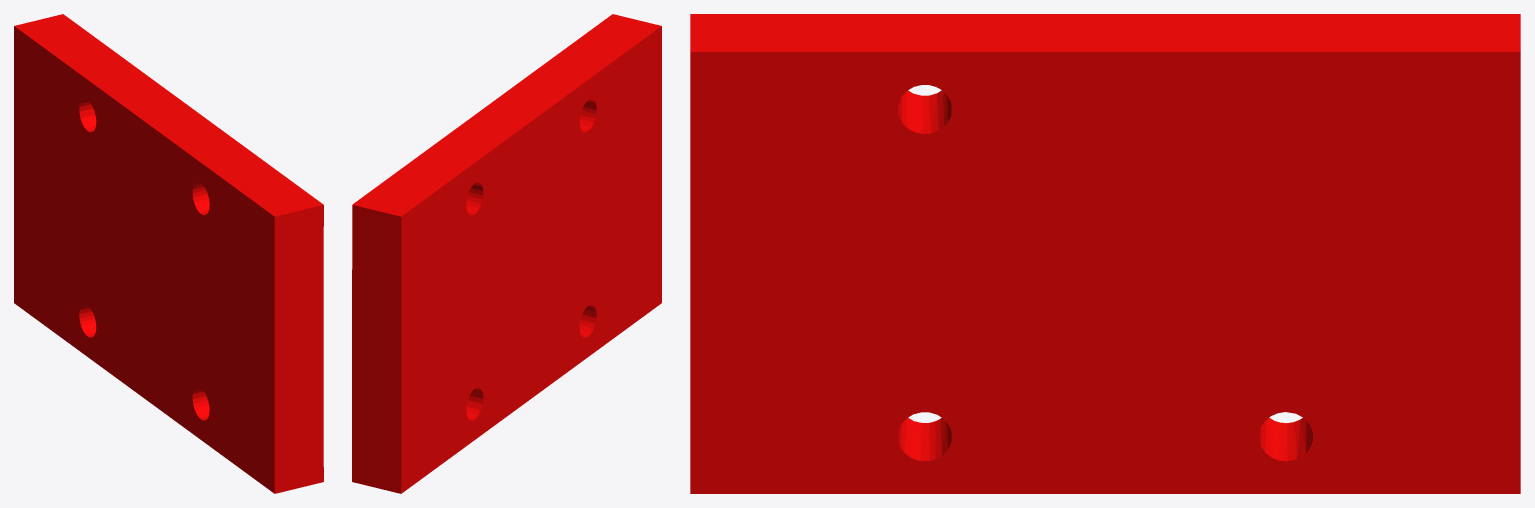
Rendered from left_arm_2_hand_1_slide_2.glb.
3 renders of one model, left to right at view 1: azimuth 30°, elevation 25°; view 2: azimuth 150°, elevation 25°; view 3: azimuth 270°, elevation 25°, orthographic. The views are drawn at different scales.
Visible parts, largest first — view 1: left_arm_2_hand_1_slide_2.obj; view 2: left_arm_2_hand_1_slide_2.obj; view 3: left_arm_2_hand_1_slide_2.obj.
Boxes of the visible parts, x1=… form: left_arm_2_hand_1_slide_2.obj: x1=14, y1=14, x2=323, y2=493; left_arm_2_hand_1_slide_2.obj: x1=352, y1=14, x2=661, y2=493; left_arm_2_hand_1_slide_2.obj: x1=690, y1=14, x2=1520, y2=493.
Size of the model in its own units: 0.005 by 0.027 by 0.046.
